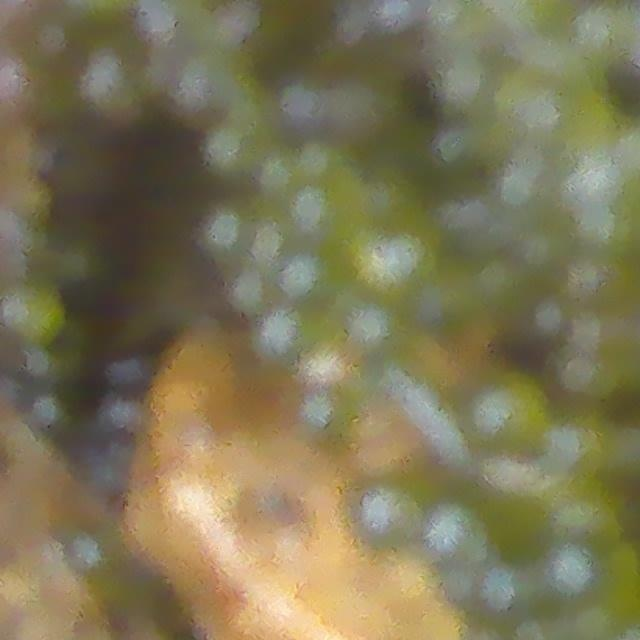SeaGrape: (466, 368, 556, 458), (351, 481, 424, 552), (284, 181, 348, 248), (423, 503, 481, 568), (0, 285, 65, 343), (255, 309, 321, 366), (82, 55, 145, 111), (543, 540, 601, 598), (278, 249, 336, 307), (302, 386, 353, 439), (206, 207, 255, 257), (348, 307, 400, 353), (225, 266, 270, 314)
